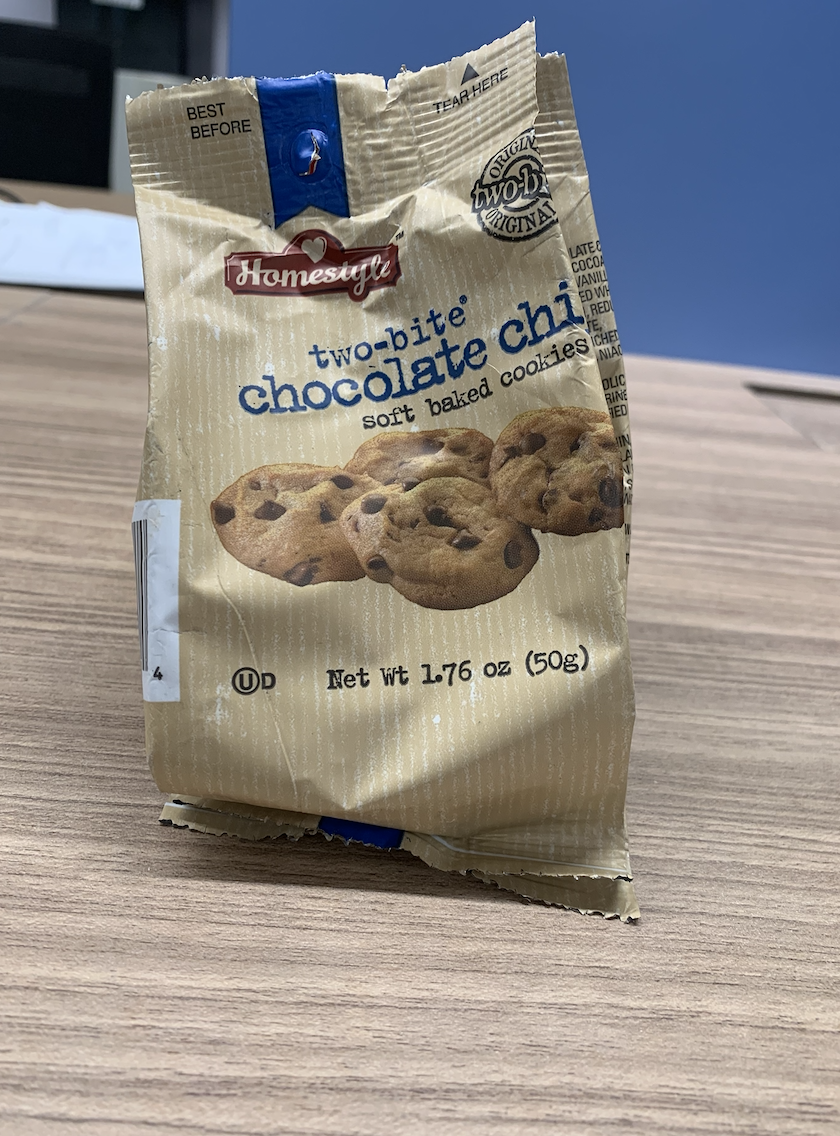cookies_1g-99g: (150, 87, 629, 850)
